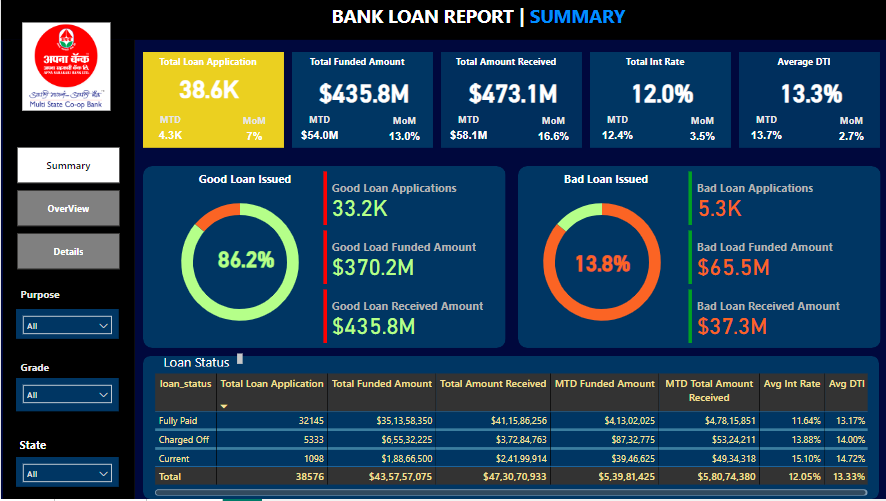

Layout of this report page (visuals, bound fields, positions):
{"tool":"powerbi","page":{"name":"Summary","canvas":[1280,720],"ordinal":0},"visuals":[{"type":"shape","box":[2.9,59,190.1,661],"z":0},{"type":"shape","box":[204.9,76.2,203,138.2],"z":0,"group":"g1"},{"type":"shape","box":[419.1,76.2,203,138.2],"z":0,"group":"g3"},{"type":"shape","box":[633.5,76.2,203,138.2],"z":0,"group":"g2"},{"type":"shape","box":[848,76.2,203,138.2],"z":0,"group":"g4"},{"type":"shape","box":[1062.4,76.2,203,138.2],"z":0,"group":"g5"},{"type":"card","fields":{"Values":["bank_loan_data.Total Loan Application"]},"box":[204.9,105,190.1,43.2],"z":1000,"group":"g1"},{"type":"card","fields":{"Values":["Measure.Total Funded Amount"]},"box":[436.8,111.1,172.8,44.6],"z":1000,"group":"g3"},{"type":"card","fields":{"Values":["Measure.Total Amount Received"]},"box":[651.2,111.1,172.8,44.6],"z":1000,"group":"g2"},{"type":"card","fields":{"Values":["Measure.Avg Int Rate"]},"box":[865.7,111.1,172.8,44.6],"z":1000,"group":"g4"},{"type":"card","fields":{"Values":["Measure.Avg DTI"]},"box":[1080.1,111.1,172.8,44.6],"z":1000,"group":"g5"},{"type":"shape","box":[204.9,239.8,522.5,262],"z":1000},{"type":"shape","box":[0,0,1280,58.8],"z":2000},{"type":"textbox","box":[216.4,76.2,164.2,33.1],"z":2000,"group":"g1"},{"type":"textbox","box":[430.6,76.2,164.2,33.1],"z":2000,"group":"g3"},{"type":"textbox","box":[645,76.2,164.2,33.1],"z":2000,"group":"g2"},{"type":"textbox","box":[859.5,76.2,164.2,33.1],"z":2000,"group":"g4"},{"type":"textbox","box":[1073.9,76.2,164.2,33.1],"z":2000,"group":"g5"},{"type":"textbox","box":[270,243,164.2,33.1],"z":2000,"group":"g6"},{"type":"textbox","box":[767.5,243.4,207.6,34.6],"z":2000,"group":"g7"},{"type":"textbox","box":[23,409,74.9,33.1],"z":2000,"group":"g10"},{"type":"textbox","box":[229,505.4,123.8,28.8],"z":2000,"group":"g8"},{"type":"textbox","box":[21.6,626.4,74.2,33.1],"z":2000,"group":"g9"},{"type":"card","title":"MTD","fields":{"Values":["bank_loan_data.MTD Loan Application"]},"box":[204.9,164,79.2,49],"z":3000,"group":"g1"},{"type":"card","title":"MTD","fields":{"Values":["Measure.MTD Total Funded Amount"]},"box":[419.1,164,79.2,49],"z":3000,"group":"g3"},{"type":"card","title":"MTD","fields":{"Values":["Measure.MTD Total Amount Received"]},"box":[633.5,164,79.2,49],"z":3000,"group":"g2"},{"type":"card","title":"MTD","fields":{"Values":["Measure.MTD Avg Int Rate"]},"box":[848,164,79.2,49],"z":3000,"group":"g4"},{"type":"card","title":"MTD","fields":{"Values":["Measure.MTD Avg DTI"]},"box":[1062.4,164,79.2,49],"z":3000,"group":"g5"},{"type":"textbox","box":[23,514.1,73.4,33.1],"z":3000},{"type":"card","title":"MoM","fields":{"Values":["Measure.MoM Loan Application"]},"box":[325.9,165.5,79.2,49],"z":4000,"group":"g1"},{"type":"card","title":"MoM","fields":{"Values":["Measure.MoM total Funded Amount"]},"box":[541.5,165.5,79.2,49],"z":4000,"group":"g3"},{"type":"card","title":"MoM","fields":{"Values":["Measure.MoM Total Amount Received"]},"box":[755.9,165.5,79.2,49],"z":4000,"group":"g2"},{"type":"card","title":"MoM","fields":{"Values":["Measure.MoM Avg Int Rate"]},"box":[970.4,165.5,79.2,49],"z":4000,"group":"g4"},{"type":"card","title":"MoM","fields":{"Values":["Measure.Mom Avg DTI"]},"box":[1184.8,165.5,79.2,49],"z":4000,"group":"g5"},{"type":"card","fields":{"Values":["Measure.Good Loan %"]},"box":[289,349.4,127,44.5],"z":4000},{"type":"textbox","box":[470.3,0,443.5,58.8],"z":5000},{"type":"group","id":"g1","title":"Group 1","box":[204.9,76.2,203,138.2],"z":6000},{"type":"group","id":"g2","title":"Group 1","box":[633.5,76.2,203.3,138.2],"z":7000},{"type":"group","id":"g3","title":"Group 1","box":[419.1,76.2,203.3,138.2],"z":8000},{"type":"group","id":"g4","title":"Group 1","box":[848,76.2,203.3,138.2],"z":9000},{"type":"donutChart","fields":{"Category":["bank_loan_data.Good Vs Bad Loan"],"Y":["Measure.Total Loan Application"]},"box":[229,267.8,230.4,221.8],"z":10000},{"type":"group","id":"g5","title":"Group 1","box":[1062.4,76.2,203.3,138.2],"z":11000},{"type":"shape","box":[744.8,239.8,522.5,262],"z":12000},{"type":"group","id":"g6","title":"Group 1","box":[270,243,165.2,33.3],"z":13000},{"type":"cardVisual","fields":{"Data":["Measure.Good Loan Applications","Measure.Good Load Funded Amount","Measure.Good Loan Received Amount"]},"box":[459.4,243.4,267.8,259.2],"z":14000},{"type":"cardVisual","fields":{"Data":["Measure.Bad Loan Applications","Measure.Bad Load Funded Amount","Measure.Bad Loan Received Amount"]},"box":[985,243.4,279.4,259.2],"z":15000},{"type":"donutChart","fields":{"Category":["bank_loan_data.Good Vs Bad Loan"],"Y":["Measure.Total Loan Application"]},"box":[750.2,267.8,230.4,221.8],"z":16000},{"type":"shape","box":[204.5,514.1,1059.8,205.9],"z":17000},{"type":"group","id":"g7","title":"Group 1","box":[767.5,243.4,207.4,34.6],"z":18000},{"type":"card","fields":{"Values":["Measure.Bad Loan %"]},"box":[802.1,357.1,126.7,43.2],"z":19000},{"type":"tableEx","fields":{"Values":["bank_loan_data.loan_status","Measure.Total Loan Application","Measure.Total Funded Amount","Measure.Total Amount Received","Measure.MTD Funded Amount","Measure.MTD Total Amount Received","Measure.Avg Int Rate","Measure.Avg DTI"]},"box":[216,534.2,1036.8,185.8],"z":20000},{"type":"group","id":"g8","title":"Group 1","box":[229,505.4,123.8,28.8],"z":21000},{"type":"slicer","fields":{"Values":["bank_loan_data.address_state"]},"box":[21.6,659.5,148.3,43.2],"z":22000},{"type":"slicer","fields":{"Values":["bank_loan_data.grade"]},"box":[21.6,545.8,148.3,47.5],"z":23000},{"type":"slicer","fields":{"Values":["bank_loan_data.purpose"]},"box":[21.6,446.4,148.3,43.2],"z":24000},{"type":"group","id":"g9","title":"Group 1","box":[21.6,626.4,74.9,33.1],"z":25000},{"type":"group","id":"g10","title":"Group 1","box":[23,409,74.9,33.1],"z":26000},{"type":"pageNavigator","box":[23,213.1,148.3,177.1],"z":26001},{"type":"image","box":[21.6,28.8,145.4,136.8],"z":26002}]}

Visuals, with their boxes in screenshot pixels (x1, y1, x2, y2), scaled from the page's 1280x720 canvas onto the 886x501 screenshot:
shape: x1=2, y1=41, x2=134, y2=500
shape: x1=142, y1=53, x2=282, y2=149
shape: x1=290, y1=53, x2=431, y2=149
shape: x1=439, y1=53, x2=579, y2=149
shape: x1=587, y1=53, x2=727, y2=149
shape: x1=735, y1=53, x2=876, y2=149
card - bank_loan_data.Total Loan Application: x1=142, y1=73, x2=273, y2=103
card - Measure.Total Funded Amount: x1=302, y1=77, x2=422, y2=108
card - Measure.Total Amount Received: x1=451, y1=77, x2=570, y2=108
card - Measure.Avg Int Rate: x1=599, y1=77, x2=719, y2=108
card - Measure.Avg DTI: x1=748, y1=77, x2=867, y2=108
shape: x1=142, y1=167, x2=503, y2=349
shape: x1=0, y1=0, x2=885, y2=41
textbox: x1=150, y1=53, x2=263, y2=76
textbox: x1=298, y1=53, x2=412, y2=76
textbox: x1=446, y1=53, x2=560, y2=76
textbox: x1=595, y1=53, x2=709, y2=76
textbox: x1=743, y1=53, x2=857, y2=76
textbox: x1=187, y1=169, x2=301, y2=192
textbox: x1=531, y1=169, x2=675, y2=193
textbox: x1=16, y1=285, x2=68, y2=308
textbox: x1=159, y1=352, x2=244, y2=372
textbox: x1=15, y1=436, x2=66, y2=459
"MTD" card: x1=142, y1=114, x2=197, y2=148
"MTD" card: x1=290, y1=114, x2=345, y2=148
"MTD" card: x1=439, y1=114, x2=493, y2=148
"MTD" card: x1=587, y1=114, x2=642, y2=148
"MTD" card: x1=735, y1=114, x2=790, y2=148
textbox: x1=16, y1=358, x2=67, y2=381
"MoM" card: x1=226, y1=115, x2=280, y2=149
"MoM" card: x1=375, y1=115, x2=430, y2=149
"MoM" card: x1=523, y1=115, x2=578, y2=149
"MoM" card: x1=672, y1=115, x2=727, y2=149
"MoM" card: x1=820, y1=115, x2=875, y2=149
card - Measure.Good Loan %: x1=200, y1=243, x2=288, y2=274
textbox: x1=326, y1=0, x2=633, y2=41
"Group 1" group: x1=142, y1=53, x2=282, y2=149
"Group 1" group: x1=439, y1=53, x2=579, y2=149
"Group 1" group: x1=290, y1=53, x2=431, y2=149
"Group 1" group: x1=587, y1=53, x2=728, y2=149
donutChart - bank_loan_data.Good Vs Bad Loan x Measure.Total Loan Application: x1=159, y1=186, x2=318, y2=341
"Group 1" group: x1=735, y1=53, x2=876, y2=149
shape: x1=516, y1=167, x2=877, y2=349
"Group 1" group: x1=187, y1=169, x2=301, y2=192
cardVisual - Measure.Good Loan Applications x Measure.Good Load Funded Amount: x1=318, y1=169, x2=503, y2=350
cardVisual - Measure.Bad Loan Applications x Measure.Bad Load Funded Amount: x1=682, y1=169, x2=875, y2=350
donutChart - bank_loan_data.Good Vs Bad Loan x Measure.Total Loan Application: x1=519, y1=186, x2=679, y2=341
shape: x1=142, y1=358, x2=875, y2=500
"Group 1" group: x1=531, y1=169, x2=675, y2=193
card - Measure.Bad Loan %: x1=555, y1=248, x2=643, y2=279
tableEx - bank_loan_data.loan_status x Measure.Total Loan Application: x1=150, y1=372, x2=867, y2=500
"Group 1" group: x1=159, y1=352, x2=244, y2=372
slicer - bank_loan_data.address_state: x1=15, y1=459, x2=118, y2=489
slicer - bank_loan_data.grade: x1=15, y1=380, x2=118, y2=413
slicer - bank_loan_data.purpose: x1=15, y1=311, x2=118, y2=341
"Group 1" group: x1=15, y1=436, x2=67, y2=459
"Group 1" group: x1=16, y1=285, x2=68, y2=308
pageNavigator: x1=16, y1=148, x2=119, y2=272
image: x1=15, y1=20, x2=116, y2=115
